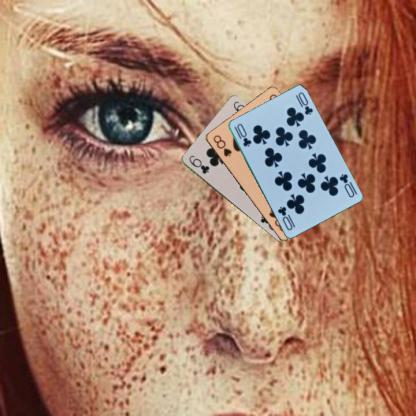10c: (336, 171, 356, 199), (232, 121, 252, 148)
6c: (186, 152, 210, 176)
8s: (210, 132, 233, 158)
